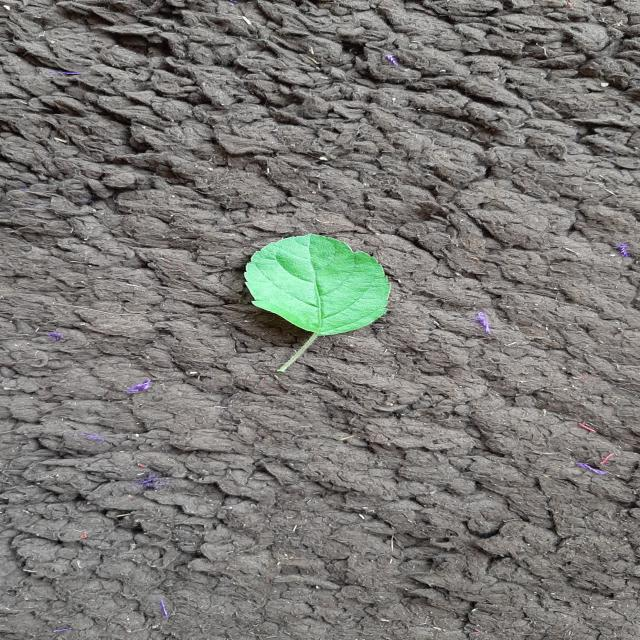tulsi: (244, 234, 390, 371)
